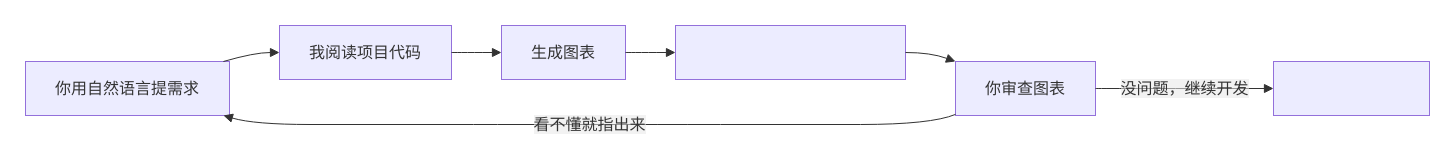
Image size: 1447x151. Some labels were removed from this diagram. The shapes that lost their labels are listed below. From the top down, each one's centre as x and y in pixels, then its label:
At point (790, 52): "draw.io 编辑器自动打开".
At point (1351, 88): "开发工作推进".
